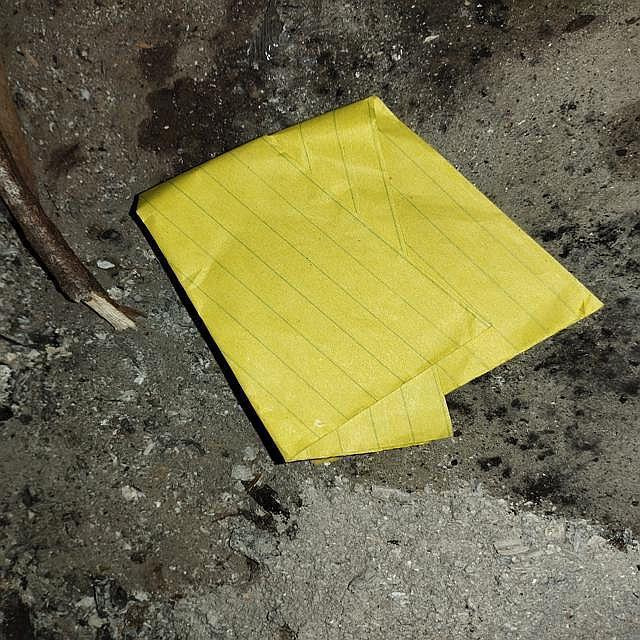Biodegradable: (124, 93, 609, 481)
